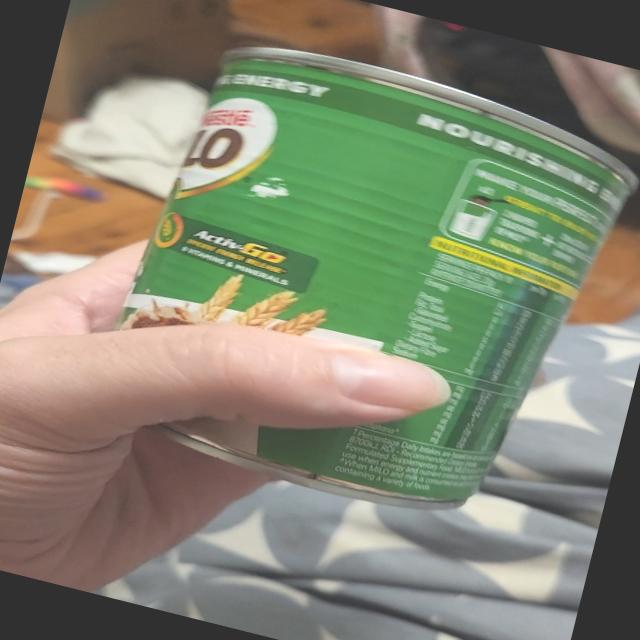nestle_milo_tin: (117, 48, 639, 510)
